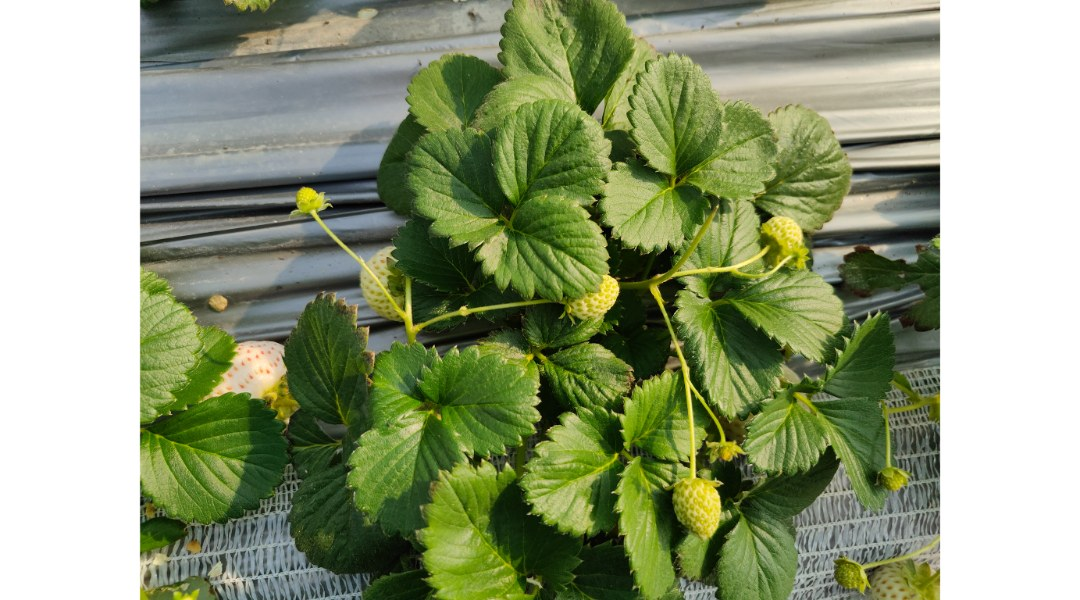berry: (194, 321, 296, 443), (346, 234, 410, 329), (550, 264, 624, 322), (754, 202, 817, 269), (676, 473, 728, 547), (862, 560, 942, 597), (288, 174, 338, 218), (829, 551, 867, 596), (706, 434, 749, 463)
strain: (653, 291, 699, 480), (313, 208, 396, 303), (411, 300, 542, 337), (666, 197, 719, 270), (695, 396, 726, 437), (877, 407, 895, 469)
